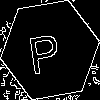P: (25, 25, 63, 75)
